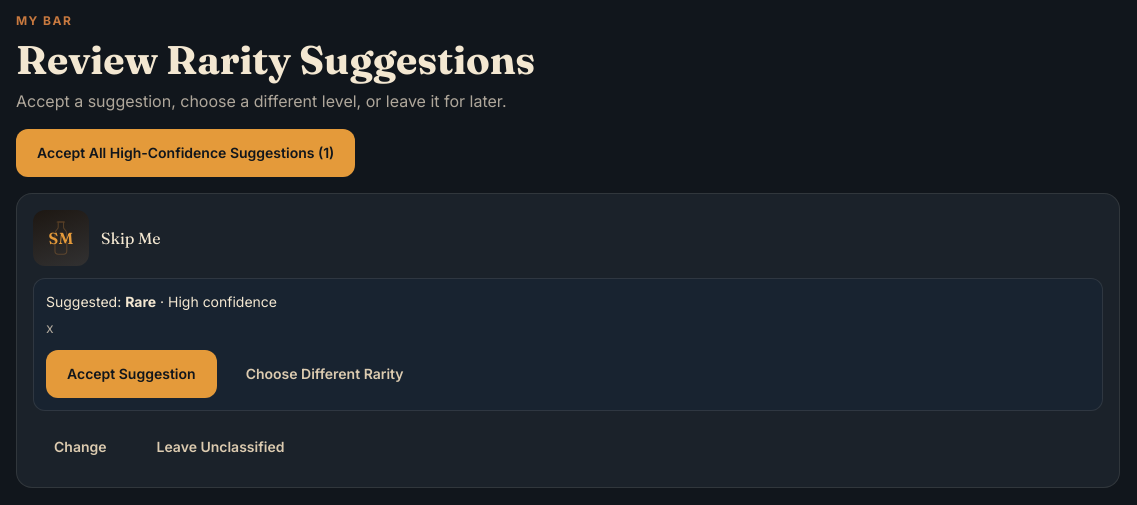
Test: RarityReviewPage › "Leave Unclassified" removes the row from the current session without writing anything
Click the button "Leave Unclassified" at (220, 447), box [136,423,305,471]
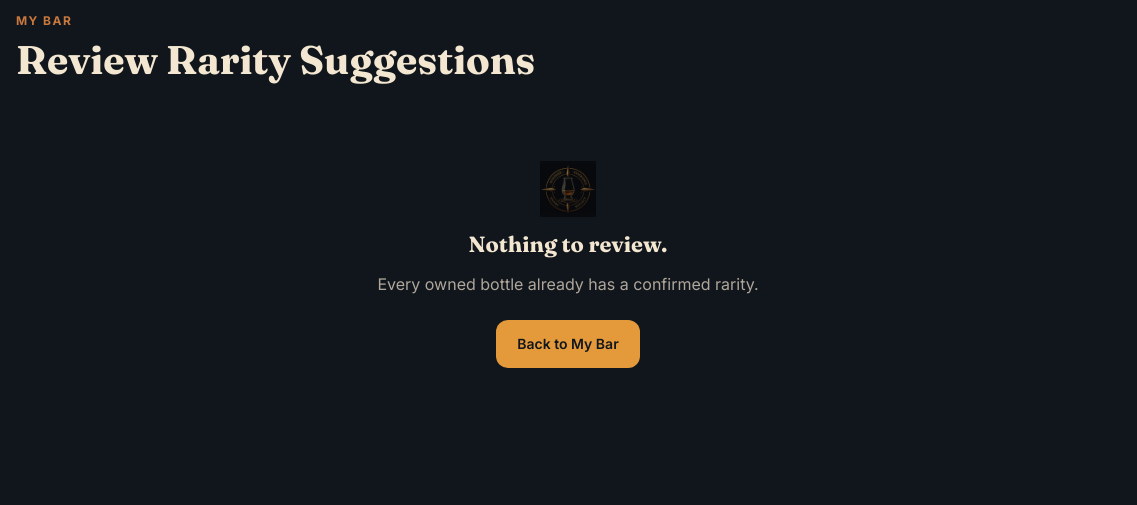
Expected: the text "Skip Me" is gone
